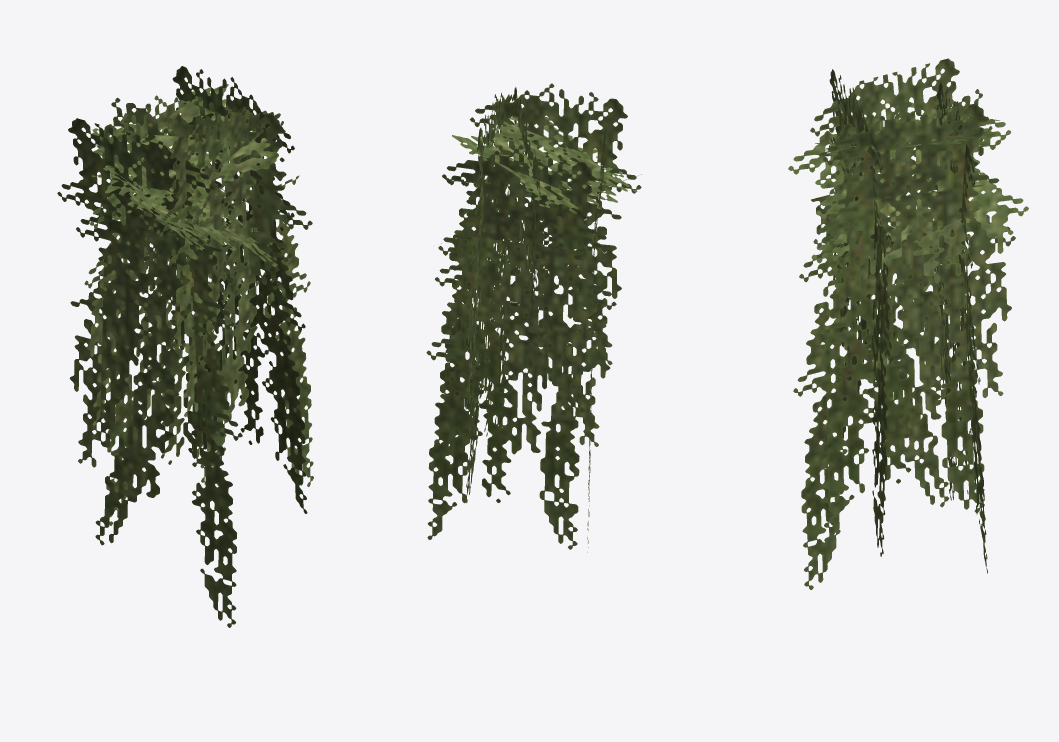
File: willow_leaves_2.obj
The picture shows the model from 3 angles, left to right: view 1: azimuth 30°, elevation 25°; view 2: azimuth 150°, elevation 25°; view 3: azimuth 270°, elevation 25°; orthographic projection. The views are drawn at different scales.
Visible parts, largest first — view 1: west, south, east, north, top, bottom; view 2: north, south, top, east, west; view 3: east, west, south, bottom, north, top.
Part boxes in pixels (x1,y1,x2,y2): west: (57,118,242,627); south: (104,96,313,486); east: (167,66,307,513); north: (84,95,226,525); top: (91,84,278,213); bottom: (92,129,277,267); north: (426,145,616,549); south: (435,83,641,463); top: (452,117,637,213); east: (465,93,513,503); west: (587,123,606,552); east: (815,102,1015,542); west: (793,58,979,589); south: (813,69,992,556); bottom: (788,102,1028,283); north: (934,82,987,573); top: (815,119,999,156).
Bounding box in the file's own units: 1.73 × 4.13 × 1.71.
